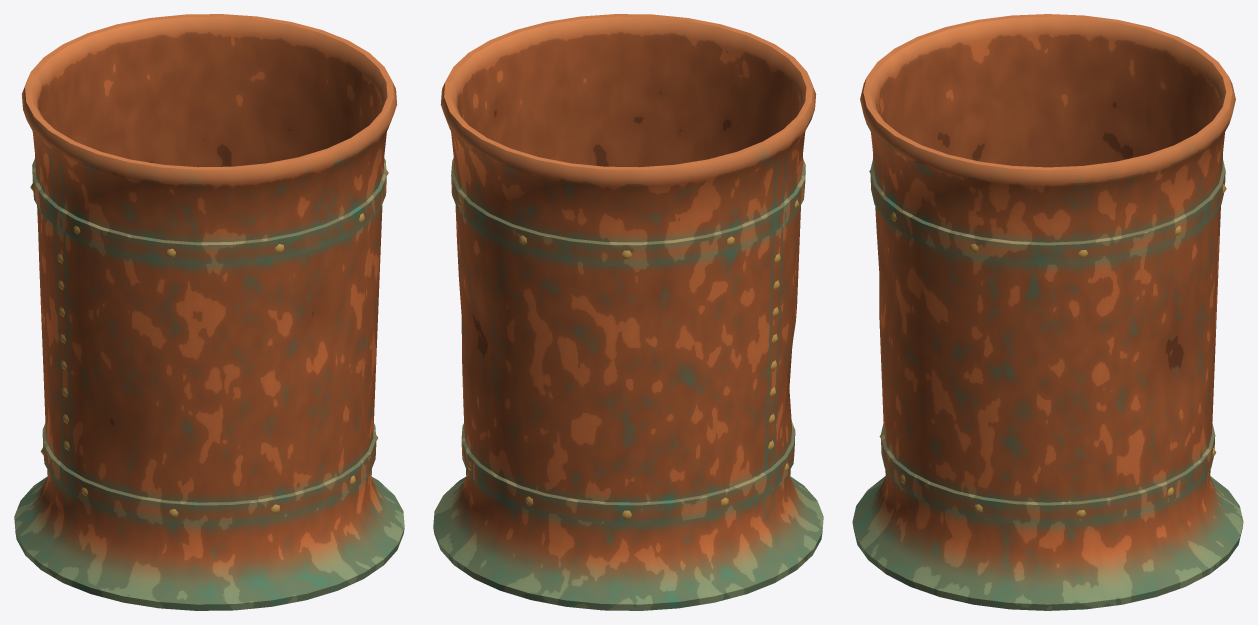
The model's file is Cup_Copper.fbx.
The picture shows the model from 3 angles, left to right: view 1: azimuth 30°, elevation 25°; view 2: azimuth 150°, elevation 25°; view 3: azimuth 270°, elevation 25°; orthographic projection.
Visible parts, largest first — view 1: Cup_Copper; view 2: Cup_Copper; view 3: Cup_Copper.
Boxes of the visible parts, x1,y1,x2,y2 form: Cup_Copper: (14, 14, 404, 610); Cup_Copper: (433, 14, 823, 610); Cup_Copper: (852, 14, 1243, 610).
Size of the model in its own units: 0.724 by 0.9 by 0.724.
1 material, 1 textured.
